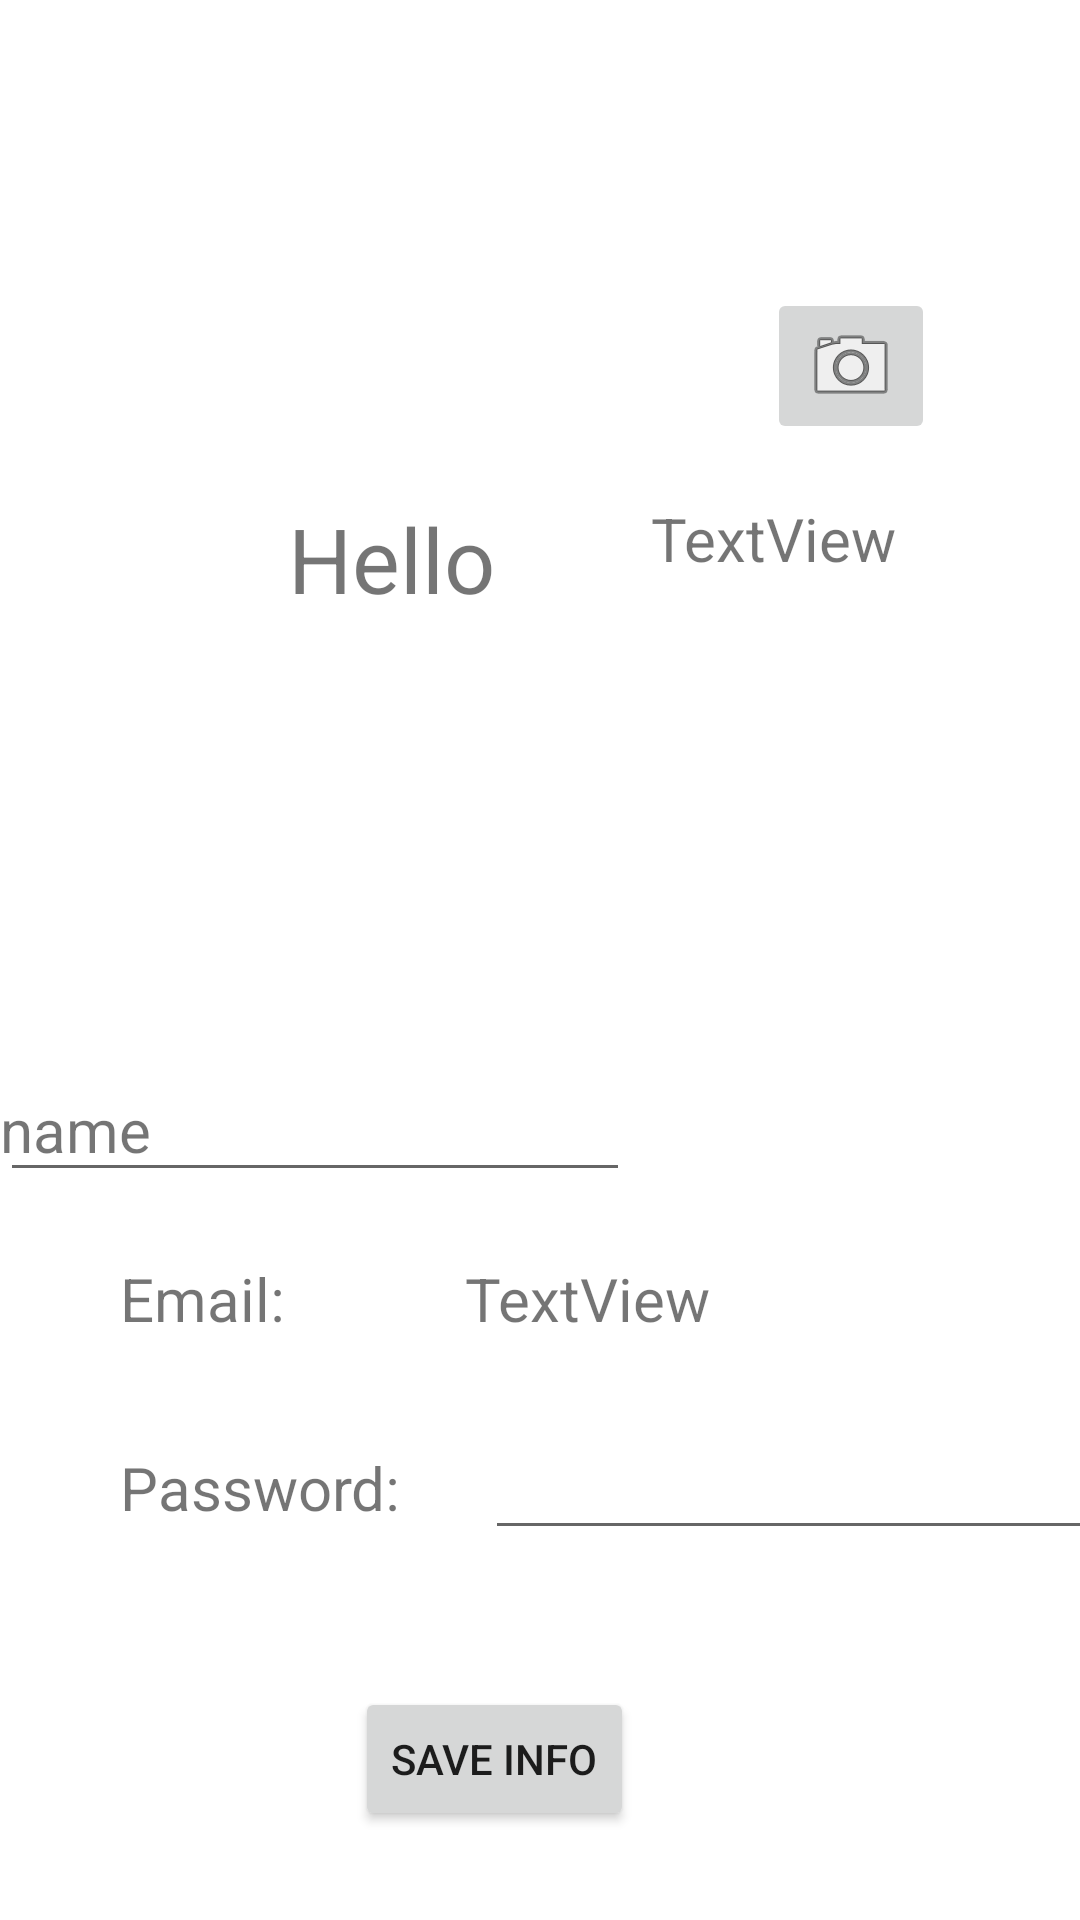

Icon click points for this 1080×1920 phone screenshot, format (x,y):
camera: (851,366)
